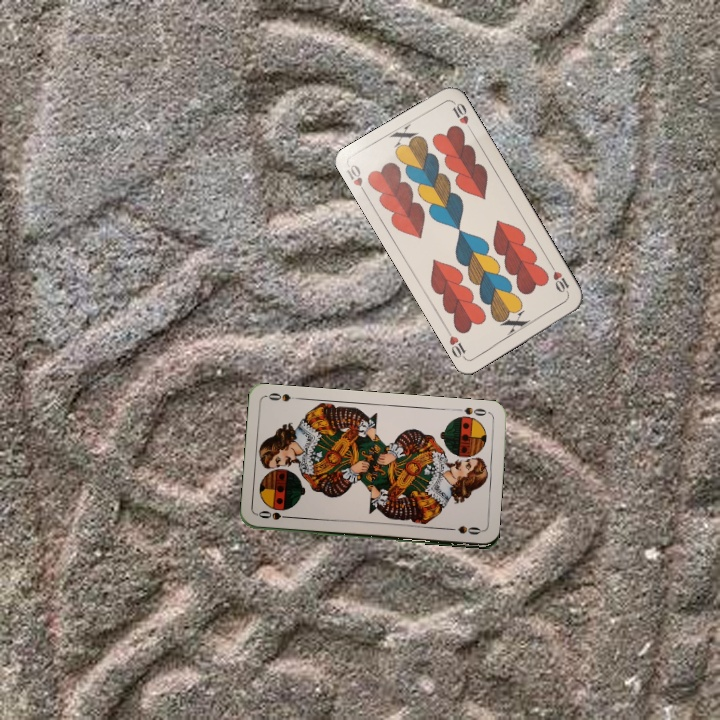H10: (342, 160, 370, 199), (546, 261, 572, 298)
SO: (451, 403, 492, 422), (255, 507, 295, 522)
